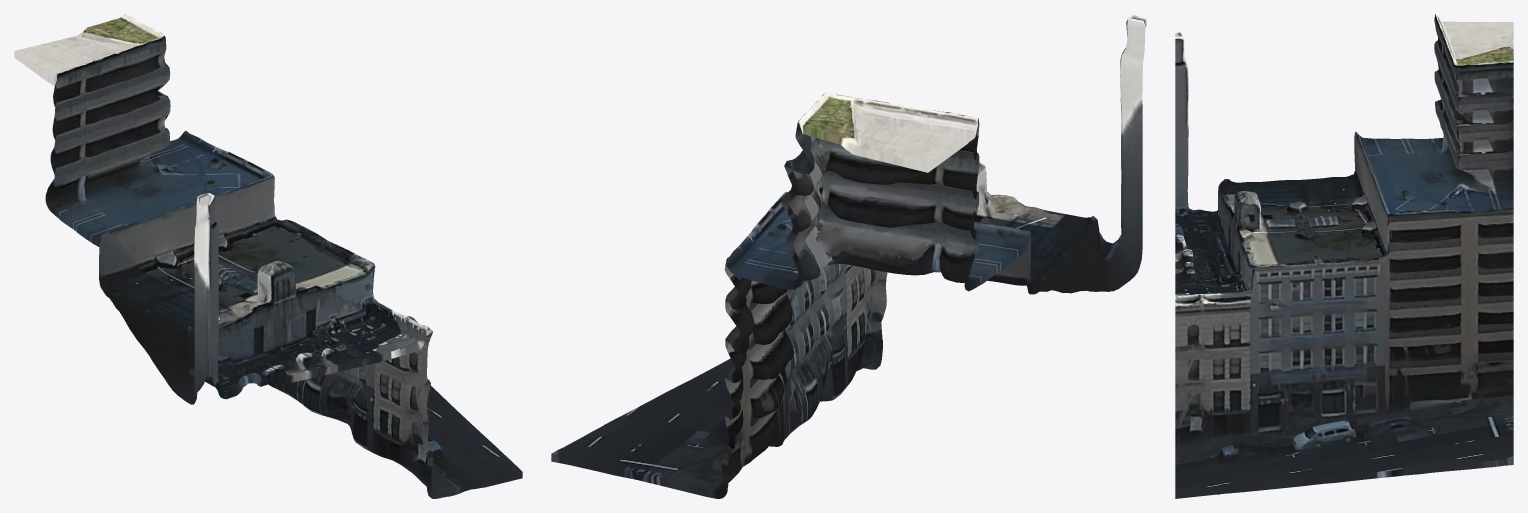
The model's file is z20-167754-405239-h0-yup-uvflip-v3-world.glb.
The picture shows the model from 3 angles, left to right: view 1: azimuth 30°, elevation 25°; view 2: azimuth 150°, elevation 25°; view 3: azimuth 270°, elevation 25°; orthographic projection. The views are drawn at different scales.
Bounding box in the file's own units: 30.16 × 34.08 × 30.32.
1 material, 1 textured.
